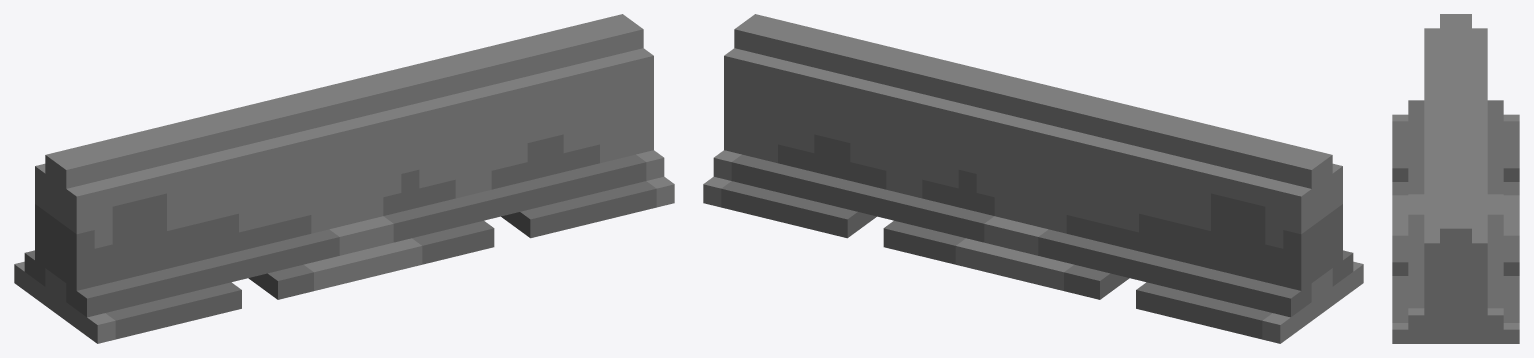
File: obj_fence6.obj
3 views of the same model, side by side, from view 1: azimuth 30°, elevation 25°; view 2: azimuth 150°, elevation 25°; view 3: azimuth 270°, elevation 25° (orthographic). The views are drawn at different scales.
Size of the model in its own units: 3.2 by 0.8 by 0.8.
1 material, 1 textured.
